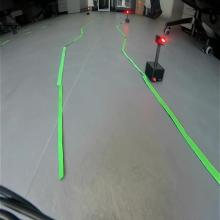red: (156, 34, 166, 46)
